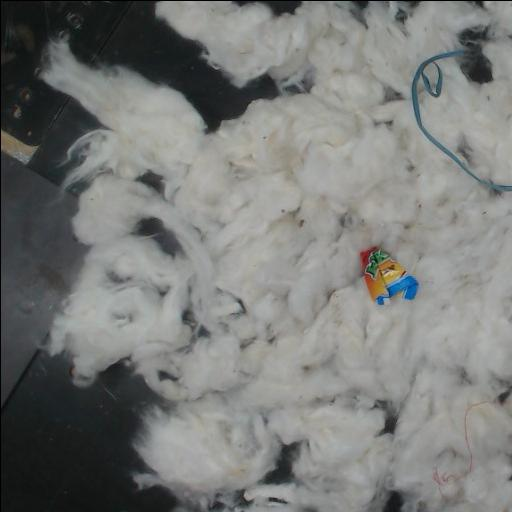cotton: (40, 1, 512, 512)
packet: (361, 248, 415, 304)
thread: (411, 50, 512, 190)
